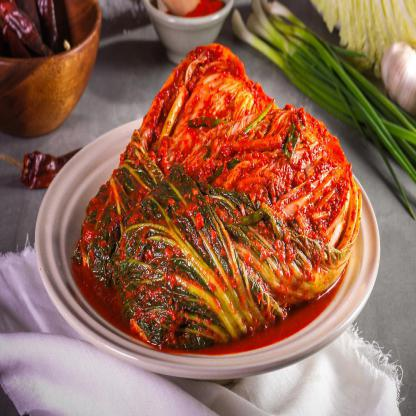kimchi: (118, 101, 363, 330), (65, 35, 295, 276)
